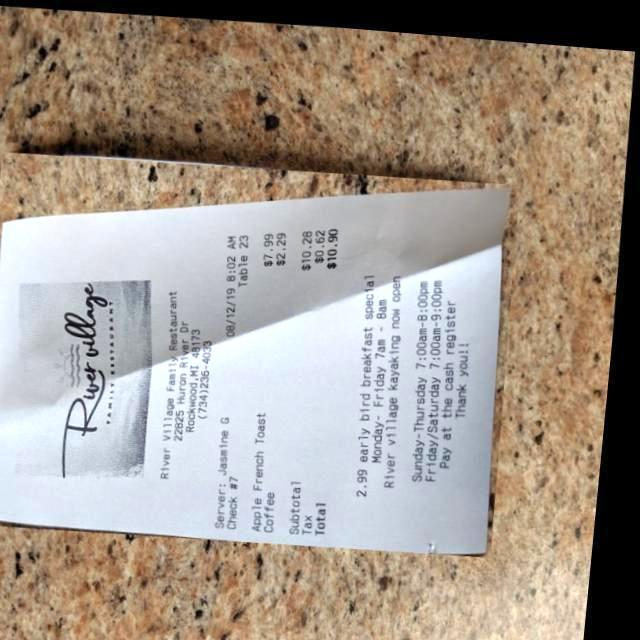Paper: (0, 141, 526, 556)
